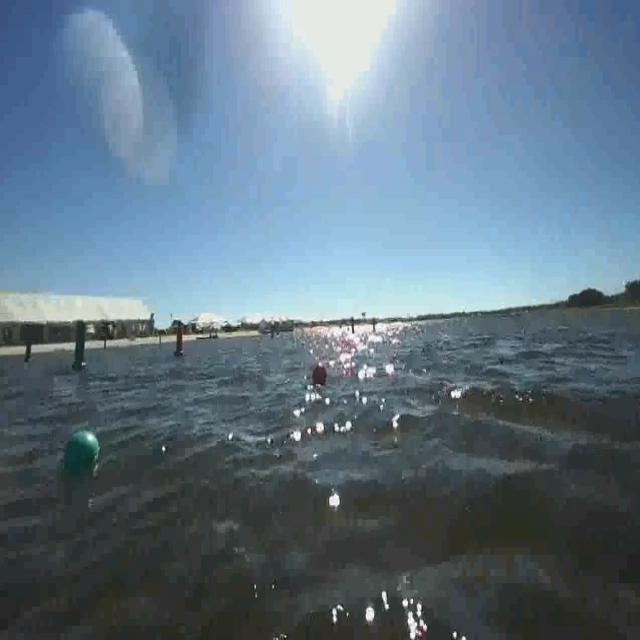green-buoy: (61, 425, 104, 479)
green-column-buoy: (70, 320, 88, 372), (24, 339, 34, 364)
red-buoy: (312, 361, 328, 388)
red-column-buoy: (176, 325, 188, 359)
